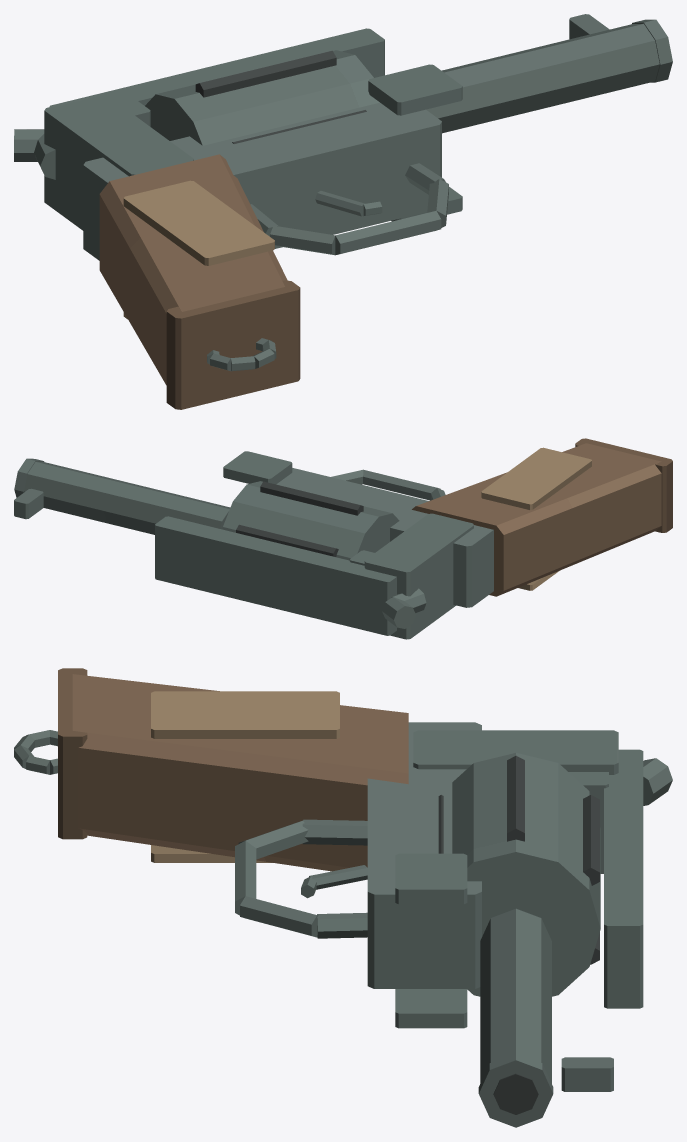
Rendered from weapon-enfield-no2.glb.
3 views of the same model, one above another, from view 1: azimuth 30°, elevation 25°; view 2: azimuth 150°, elevation 25°; view 3: azimuth 270°, elevation 25° (orthographic). The views are drawn at different scales.
Visible parts, largest first — view 1: weapon-enfield-no2/lower-frame, weapon-enfield-no2/eight-sided-wood-grip, weapon-enfield-no2/barrel, weapon-enfield-no2/eight-sided-wood-grip-heel, weapon-enfield-no2/fluted-cylinder, weapon-enfield-no2/frame-rear, weapon-enfield-no2/grip-plaque-left, weapon-enfield-no2/continuous-top-strap, weapon-enfield-no2/top-break-hinge-left, weapon-enfield-no2/cylinder-long-flute-3, weapon-enfield-no2/hollow-trigger-guard-4, weapon-enfield-no2/hollow-trigger-guard-5 (+7 smaller); view 2: weapon-enfield-no2/eight-sided-wood-grip, weapon-enfield-no2/continuous-top-strap, weapon-enfield-no2/barrel, weapon-enfield-no2/fluted-cylinder, weapon-enfield-no2/frame-rear, weapon-enfield-no2/lower-frame, weapon-enfield-no2/grip-plaque-left, weapon-enfield-no2/top-break-hinge-left, weapon-enfield-no2/eight-sided-wood-grip-heel, weapon-enfield-no2/cylinder-long-flute-3, weapon-enfield-no2/hollow-trigger-guard-4, weapon-enfield-no2/cylinder-long-flute-2 (+4 smaller); view 3: weapon-enfield-no2/eight-sided-wood-grip, weapon-enfield-no2/fluted-cylinder, weapon-enfield-no2/lower-frame, weapon-enfield-no2/barrel, weapon-enfield-no2/continuous-top-strap, weapon-enfield-no2/grip-plaque-left, weapon-enfield-no2/frame-rear, weapon-enfield-no2/top-break-hinge-left, weapon-enfield-no2/eight-sided-wood-grip-heel, weapon-enfield-no2/top-break-hinge-right, weapon-enfield-no2/barrel-end-rim, weapon-enfield-no2/front-sight (+12 smaller).
Part boxes in pixels (x1,y1,x2,y2): weapon-enfield-no2/lower-frame: (83,102,441,260); weapon-enfield-no2/eight-sided-wood-grip: (99,154,287,385); weapon-enfield-no2/barrel: (426,23,659,133); weapon-enfield-no2/eight-sided-wood-grip-heel: (166,280,300,409); weapon-enfield-no2/fluted-cylinder: (145,50,379,145); weapon-enfield-no2/frame-rear: (44,94,193,230); weapon-enfield-no2/grip-plaque-left: (123,180,274,265); weapon-enfield-no2/continuous-top-strap: (49,28,384,106); weapon-enfield-no2/top-break-hinge-left: (368,64,462,115); weapon-enfield-no2/cylinder-long-flute-3: (195,50,336,97); weapon-enfield-no2/hollow-trigger-guard-4: (335,210,441,255); weapon-enfield-no2/hollow-trigger-guard-5: (270,225,335,255); weapon-enfield-no2/eight-sided-wood-grip: (412,443,661,596); weapon-enfield-no2/continuous-top-strap: (155,516,396,635); weapon-enfield-no2/barrel: (24,461,230,534); weapon-enfield-no2/fluted-cylinder: (222,481,399,560); weapon-enfield-no2/frame-rear: (364,513,473,639); weapon-enfield-no2/lower-frame: (276,468,493,607); weapon-enfield-no2/grip-plaque-left: (481,447,591,509); weapon-enfield-no2/top-break-hinge-left: (223,451,292,484); weapon-enfield-no2/eight-sided-wood-grip-heel: (575,438,672,532); weapon-enfield-no2/cylinder-long-flute-3: (260,481,363,515); weapon-enfield-no2/hollow-trigger-guard-4: (363,469,440,500); weapon-enfield-no2/cylinder-long-flute-2: (236,524,338,556); weapon-enfield-no2/eight-sided-wood-grip: (72,674,408,871); weapon-enfield-no2/fluted-cylinder: (452,753,600,996); weapon-enfield-no2/lower-frame: (367,722,481,988); weapon-enfield-no2/barrel: (480,908,551,1083); weapon-enfield-no2/continuous-top-strap: (604,749,643,1008); weapon-enfield-no2/grip-plaque-left: (151,691,339,738); weapon-enfield-no2/frame-rear: (413,730,618,774); weapon-enfield-no2/top-break-hinge-left: (395,853,467,904); weapon-enfield-no2/eight-sided-wood-grip-heel: (58,668,87,839); weapon-enfield-no2/top-break-hinge-right: (395,989,467,1028); weapon-enfield-no2/barrel-end-rim: (478,1053,553,1127); weapon-enfield-no2/front-sight: (561,1057,613,1091).
Size of the model in its own units: 0.2724 by 0.0594 by 0.2022.
4 materials, 4 textured.
